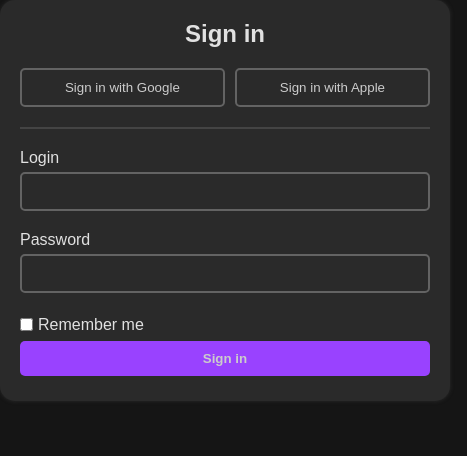
Test: LoginForm › shows error on invalid credentials
The image size is (467, 456).
Type "invalidUser" into the field labelled "Login" at (225, 192), box [20, 172, 430, 211]
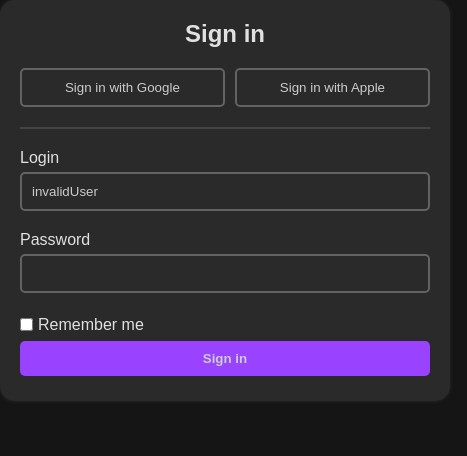
Type "invalidPass" into the password field labelled "Password" at (225, 274), box [20, 254, 430, 293]
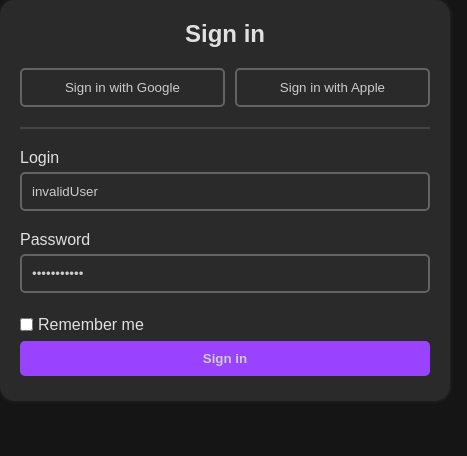
Click the button "Sign in" at (225, 358), box [20, 341, 430, 376]
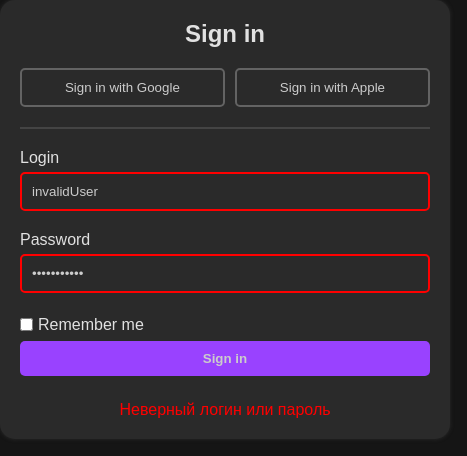
Expected: the text "Неверный логин или пароль" is shown, [120, 401, 331, 418]
